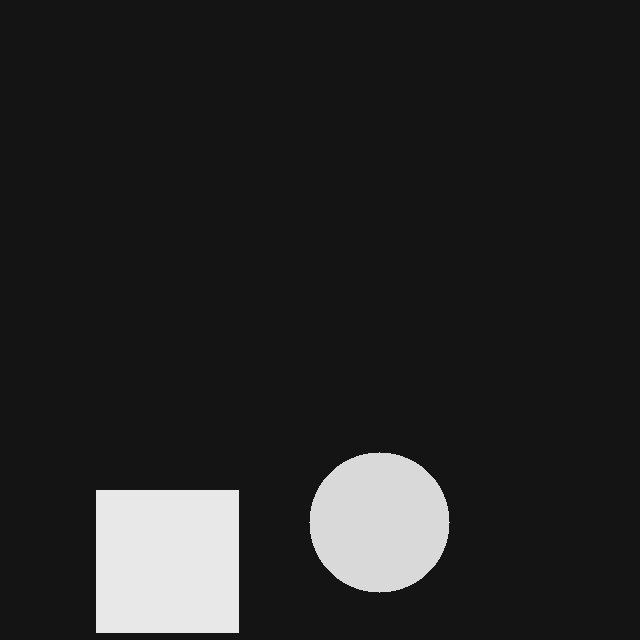circle: (309, 452, 449, 592)
square: (96, 490, 238, 632)
